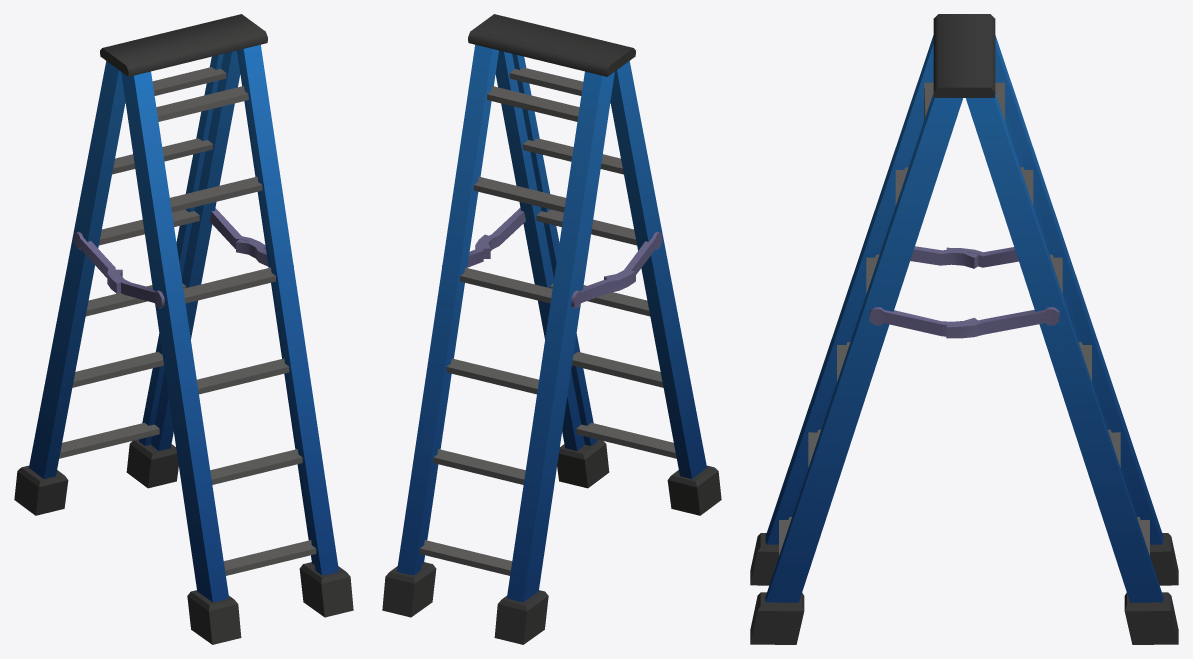
The model's file is Ladder_1_2.glb.
The picture shows the model from 3 angles, left to right: view 1: azimuth 30°, elevation 25°; view 2: azimuth 150°, elevation 25°; view 3: azimuth 270°, elevation 25°; orthographic projection. The views are drawn at different scales.
Visible parts, largest first — view 1: Ladder_1_2; view 2: Ladder_1_2; view 3: Ladder_1_2.
Boxes of the visible parts, x1,y1,x2,y2 form: Ladder_1_2: (14, 14, 353, 644); Ladder_1_2: (382, 14, 721, 644); Ladder_1_2: (750, 14, 1178, 644).
Size of the model in its own units: 0.5592 by 1.82 by 1.27.
1 material, 1 textured.
